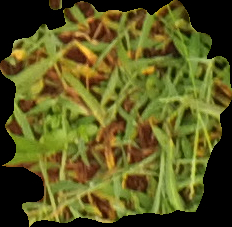grass: (1, 1, 231, 225)
